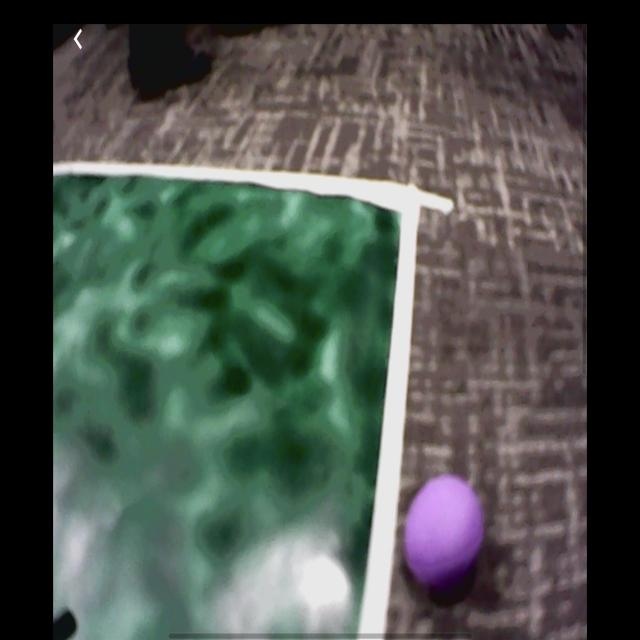ball: (405, 474, 486, 596)
